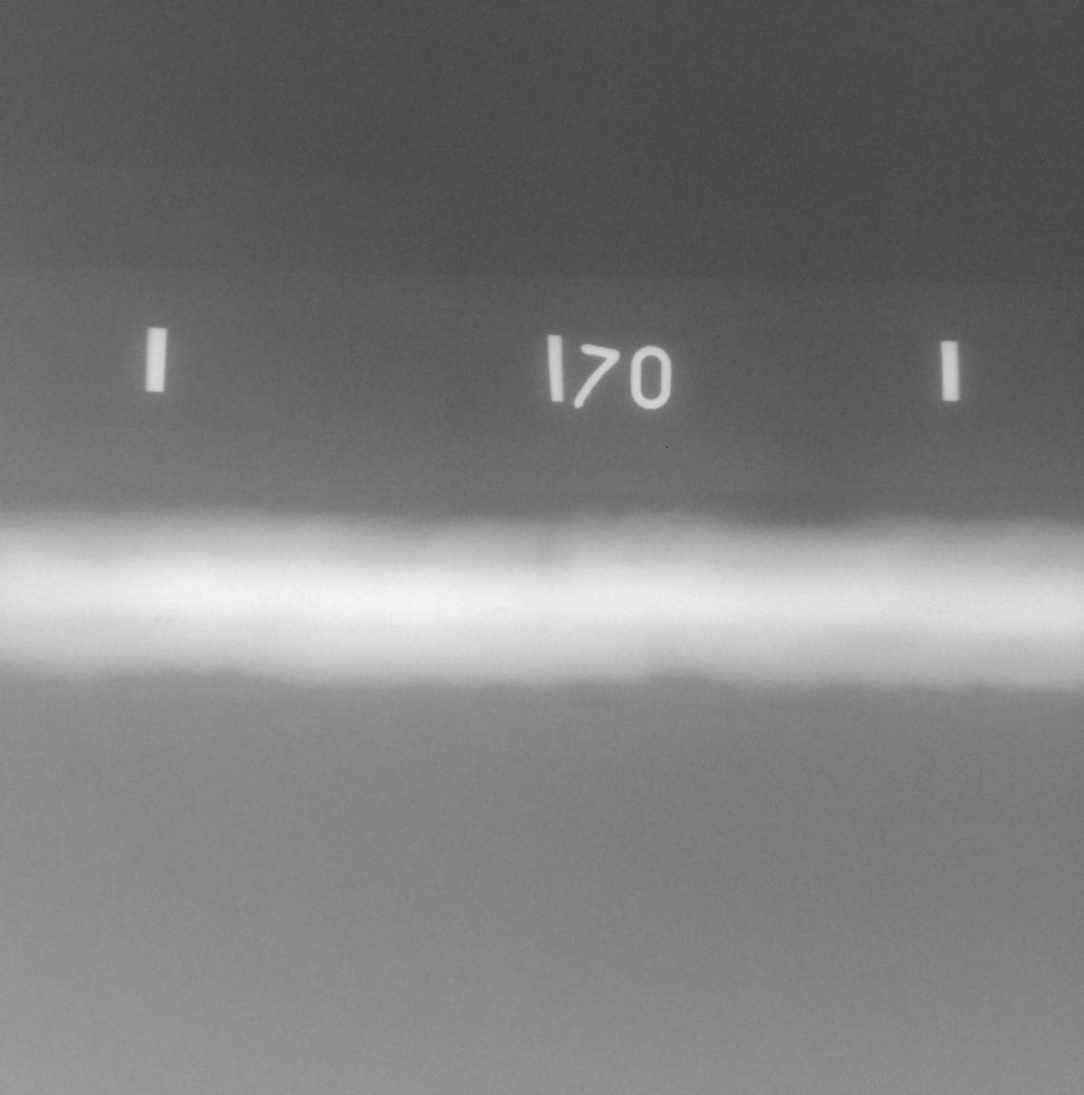Inclusion: (495, 605, 504, 613), (154, 617, 160, 624), (506, 606, 510, 611), (167, 619, 171, 623)
